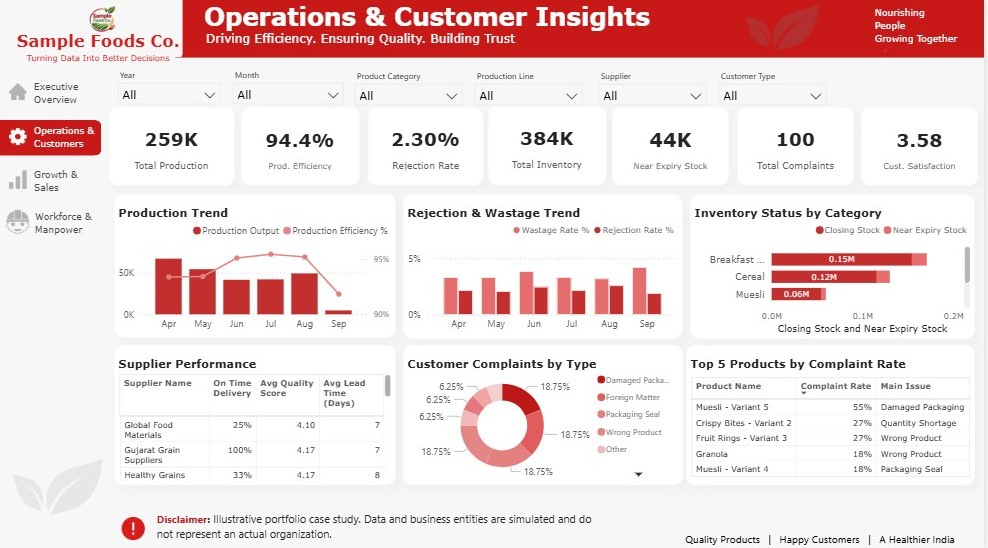

The page's visual inventory and layout, read from the dashboard file:
{"tool":"powerbi","page":{"name":"Operations & Customers","canvas":[1280,720],"ordinal":1},"visuals":[{"type":"shape","title":"Tittle_L","box":[229.3,0,1050.7,80],"z":0},{"type":"textbox","title":"Shanti Foods","box":[10,37.5,239.5,39.9],"z":0,"group":"g12"},{"type":"shape","title":"Side_Button_1_Cover","box":[0,103,125.1,46],"z":0,"group":"g3"},{"type":"slicer","title":"Slicer_Year_2","fields":{"Values":["Date_Table.Year"]},"box":[150.2,107.7,142.9,40.5],"z":0,"group":"g9"},{"type":"slicer","title":"Slicer_Year_2","fields":{"Values":["Date_Table.Month"]},"box":[299.6,108.5,153.8,40.4],"z":0,"group":"g8"},{"type":"slicer","title":"Slicer_Year_2","fields":{"Values":["Production.Production_Line"]},"box":[459,108.7,149.5,40.5],"z":0,"group":"g7"},{"type":"slicer","title":"Slicer_Year_2","fields":{"Values":["Product_Master.Category"]},"box":[614.8,108.7,149.5,40.5],"z":0,"group":"g6"},{"type":"slicer","title":"Slicer_Year_2","fields":{"Values":["Procurement.Supplier_Name"]},"box":[775,108.8,149.5,40.5],"z":0,"group":"g5"},{"type":"slicer","title":"Slicer_Year_2","fields":{"Values":["Customer_Master.Customer_Type"]},"box":[931,108.8,149.5,40.5],"z":0,"group":"g4"},{"type":"shape","title":"Side_Button_1_Cover","box":[0,160.9,125.1,46],"z":0,"group":"g2"},{"type":"shape","title":"Side_Button_1_Cover","box":[0,216.8,125.1,46],"z":0,"group":"g1"},{"type":"shape","title":"Side_Button_1_Cover","box":[0,272.7,125.1,46],"z":0,"group":"g11"},{"type":"textbox","box":[200,664.3,598.6,55.7],"z":0,"group":"g10"},{"type":"shape","title":"Title_S","box":[0,0,240,80],"z":1000},{"type":"textbox","title":"Tagline","box":[10,62.3,239.5,30.3],"z":1000,"group":"g12"},{"type":"textbox","title":"Slicer_text_2","box":[158.1,91.9,138.3,20.7],"z":1000,"group":"g9"},{"type":"textbox","title":"Slicer_text_2","box":[307.2,92.8,138.3,20.7],"z":1000,"group":"g8"},{"type":"textbox","title":"Slicer_text_2","box":[466.6,92.9,138.3,20.7],"z":1000,"group":"g7"},{"type":"textbox","title":"Slicer_text_2","box":[622.4,92.9,138.3,20.7],"z":1000,"group":"g6"},{"type":"textbox","title":"Slicer_text_2","box":[782.6,93,138.3,20.7],"z":1000,"group":"g5"},{"type":"textbox","title":"Slicer_text_2","box":[938.6,93,138.3,20.7],"z":1000,"group":"g4"},{"type":"shape","title":"Side_Button_1","box":[0,102.8,134.4,46.1],"z":1000,"group":"g3"},{"type":"shape","title":"Side_Button_1","box":[0,160.7,134.4,46.1],"z":1000,"group":"g2"},{"type":"shape","title":"Side_Button_1","box":[0,216.6,134.4,46.1],"z":1000,"group":"g1"},{"type":"shape","title":"Side_Button_1","box":[0,272.5,134.4,46.1],"z":1000,"group":"g11"},{"type":"image","box":[150,675.7,50,30],"z":1000,"group":"g10"},{"type":"image","title":"Logoo","box":[110,10,50.4,36.8],"z":2000,"group":"g12"},{"type":"image","title":"Homo_logo","box":[14,105.8,22.8,38],"z":2000,"group":"g3"},{"type":"image","title":"Setting_logo","box":[14,163.7,22.8,38],"z":2000,"group":"g2"},{"type":"group","id":"g1","title":"Side Button 3","box":[0,216.6,134.5,46.2],"z":2000},{"type":"image","title":"Signal_logo","box":[14,219.6,22.8,38],"z":2000,"group":"g1"},{"type":"image","title":"Signal_logo","box":[9.3,264.3,32.9,58.6],"z":2000,"group":"g11"},{"type":"textbox","title":"Exec_text","box":[47.3,108.5,69.7,35.2],"z":3000,"group":"g3"},{"type":"group","id":"g2","title":"Side Button 2","box":[0,160.7,134.1,46.2],"z":3000},{"type":"textbox","title":"Ops/ customer text","box":[46.9,165.2,79.5,36.4],"z":3000,"group":"g2"},{"type":"textbox","title":"Growth/Sales text","box":[47.3,222.3,69.7,35.2],"z":3000,"group":"g1"},{"type":"textbox","title":"Growth/Sales text","box":[47.9,277.3,87.1,35],"z":3000,"group":"g11"},{"type":"group","id":"g3","title":"Side Button 1","box":[0,102.8,134.4,46.2],"z":4000},{"type":"textbox","title":"Header Tagline 1","box":[267,6,607,42],"z":5000},{"type":"textbox","title":"Header Title 1","box":[270,45,420,23],"z":6000},{"type":"textbox","title":"Header Sideline 1","box":[1138.7,12,130,55.3],"z":7000},{"type":"cardVisual","title":"Total Production","fields":{"Data":["Production.Production Output"]},"box":[144.1,144.1,162.9,101.8],"z":8000},{"type":"lineClusteredColumnComboChart","title":"Production Trend","fields":{"Category":["Date_Table.Month_Short"],"Y":["Production.Production Output"],"Y2":["Production.Production Efficiency %"]},"box":[150,257.3,366.4,187.3],"z":9000},{"type":"clusteredColumnChart","title":"Rejection & Wastage Trend","fields":{"Category":["Date_Table.Month_Short"],"Y":["Production.Wastage Rate %","Production.Rejection Rate %"]},"box":[526.1,257.3,362.5,187.6],"z":10000},{"type":"barChart","title":"Inventory Status by Category","fields":{"Category":["Product_Master.Category"],"Y":["Inventory.Closing Stock","Inventory.Near Expiry Stock"]},"box":[898.7,257.3,370.1,187.6],"z":11000},{"type":"tableEx","title":"Supplier Performance","fields":{"Values":["Procurement.Supplier_Name","Complaints_Returns.On-Time Delivery %","Complaints_Returns.Avg Quality Score","Complaints_Returns.Avg Lead Time"]},"box":[150,452.7,366.4,181.8],"z":12000},{"type":"donutChart","title":"Customer Complaints by Type","fields":{"Category":["Complaints_Returns.Complaint_Type"],"Y":["Complaints_Returns.Total Complaints"]},"box":[525.5,452.7,363.6,181.8],"z":13000},{"type":"group","id":"g4","title":"Slicer 6","box":[931,93,149,56],"z":14000},{"type":"group","id":"g5","title":"Slicer 5","box":[775,93,149.5,56.3],"z":15000},{"type":"group","id":"g6","title":"Slicer 4","box":[614.8,92.9,149.5,56.2],"z":16000},{"type":"group","id":"g7","title":"Slicer 3","box":[459,92.9,149.5,56.3],"z":17000},{"type":"group","id":"g8","title":"Slicer 2","box":[299.6,92.8,153.8,56.1],"z":18000},{"type":"group","id":"g9","title":"Slicer 1","box":[150.2,91.9,146.1,56.2],"z":19000},{"type":"cardVisual","title":"Production Efficiency","fields":{"Data":["Production.Production Efficiency %"]},"box":[315,144.1,154.1,101.8],"z":20000},{"type":"cardVisual","title":"Rejection Rate","fields":{"Data":["Production.Rejection Rate %"]},"box":[480,143.5,150,101.8],"z":21000},{"type":"cardVisual","title":"Total Inventory","fields":{"Data":["Inventory.Closing Stock"]},"box":[636,142.7,153.6,102.7],"z":22000},{"type":"cardVisual","title":"Near Expiry Stock","fields":{"Data":["Inventory.Near Expiry Stock"]},"box":[798,143.5,152.4,101.8],"z":23000},{"type":"cardVisual","title":"Total Complaints","fields":{"Data":["Complaints_Returns.Total Complaints"]},"box":[959.4,144.1,152.4,101.8],"z":24000},{"type":"cardVisual","title":"Customer","fields":{"Data":["Complaints_Returns.Avg Customer Satisfaction"]},"box":[1120.6,143.5,152.4,101.8],"z":25000},{"type":"tableEx","title":"Top 5 Products by Complaint Rate","fields":{"Values":["Complaints_Returns.Product_Name","Complaints_Returns.Complaint Rate %","Complaints_Returns.Main Complaint Issue"]},"box":[893.6,452.7,375.5,181.8],"z":26000},{"type":"textbox","title":"Footer","box":[856.4,690.9,423.6,29.1],"z":27000},{"type":"group","id":"g10","title":"Group 1","box":[150,664.3,648.6,55.7],"z":28000},{"type":"group","id":"g11","title":"Side Button 4","box":[0,264.3,135,58.6],"z":29000},{"type":"image","title":"Bird","box":[0,555,150,165],"z":30000},{"type":"image","title":"Bird","box":[941.7,0,150,81.7],"z":31000},{"type":"group","id":"g12","title":"TOP LOGO","box":[10,10,239.5,82.6],"z":32000}]}

Visuals, with their boxes in screenshot pixels (x1, y1, x2, y2), scaled from the page's 1280x720 canvas onto the 988x548 screenshot:
"Tittle_L" shape: {"left": 177, "top": 0, "right": 987, "bottom": 61}
"Shanti Foods" textbox: {"left": 8, "top": 29, "right": 193, "bottom": 59}
"Side_Button_1_Cover" shape: {"left": 0, "top": 78, "right": 97, "bottom": 113}
"Slicer_Year_2" slicer: {"left": 116, "top": 82, "right": 226, "bottom": 113}
"Slicer_Year_2" slicer: {"left": 231, "top": 83, "right": 350, "bottom": 113}
"Slicer_Year_2" slicer: {"left": 354, "top": 83, "right": 470, "bottom": 114}
"Slicer_Year_2" slicer: {"left": 475, "top": 83, "right": 590, "bottom": 114}
"Slicer_Year_2" slicer: {"left": 598, "top": 83, "right": 714, "bottom": 114}
"Slicer_Year_2" slicer: {"left": 719, "top": 83, "right": 834, "bottom": 114}
"Side_Button_1_Cover" shape: {"left": 0, "top": 122, "right": 97, "bottom": 157}
"Side_Button_1_Cover" shape: {"left": 0, "top": 165, "right": 97, "bottom": 200}
"Side_Button_1_Cover" shape: {"left": 0, "top": 208, "right": 97, "bottom": 243}
textbox: {"left": 154, "top": 506, "right": 616, "bottom": 547}
"Title_S" shape: {"left": 0, "top": 0, "right": 185, "bottom": 61}
"Tagline" textbox: {"left": 8, "top": 47, "right": 193, "bottom": 70}
"Slicer_text_2" textbox: {"left": 122, "top": 70, "right": 229, "bottom": 86}
"Slicer_text_2" textbox: {"left": 237, "top": 71, "right": 344, "bottom": 86}
"Slicer_text_2" textbox: {"left": 360, "top": 71, "right": 467, "bottom": 86}
"Slicer_text_2" textbox: {"left": 480, "top": 71, "right": 587, "bottom": 86}
"Slicer_text_2" textbox: {"left": 604, "top": 71, "right": 711, "bottom": 87}
"Slicer_text_2" textbox: {"left": 724, "top": 71, "right": 831, "bottom": 87}
"Side_Button_1" shape: {"left": 0, "top": 78, "right": 104, "bottom": 113}
"Side_Button_1" shape: {"left": 0, "top": 122, "right": 104, "bottom": 157}
"Side_Button_1" shape: {"left": 0, "top": 165, "right": 104, "bottom": 200}
"Side_Button_1" shape: {"left": 0, "top": 207, "right": 104, "bottom": 242}
image: {"left": 116, "top": 514, "right": 154, "bottom": 537}
"Logoo" image: {"left": 85, "top": 8, "right": 124, "bottom": 36}
"Homo_logo" image: {"left": 11, "top": 81, "right": 28, "bottom": 109}
"Setting_logo" image: {"left": 11, "top": 125, "right": 28, "bottom": 154}
"Side Button 3" group: {"left": 0, "top": 165, "right": 104, "bottom": 200}
"Signal_logo" image: {"left": 11, "top": 167, "right": 28, "bottom": 196}
"Signal_logo" image: {"left": 7, "top": 201, "right": 33, "bottom": 246}
"Exec_text" textbox: {"left": 37, "top": 83, "right": 90, "bottom": 109}
"Side Button 2" group: {"left": 0, "top": 122, "right": 104, "bottom": 157}
"Ops/ customer text" textbox: {"left": 36, "top": 126, "right": 98, "bottom": 153}
"Growth/Sales text" textbox: {"left": 37, "top": 169, "right": 90, "bottom": 196}
"Growth/Sales text" textbox: {"left": 37, "top": 211, "right": 104, "bottom": 238}
"Side Button 1" group: {"left": 0, "top": 78, "right": 104, "bottom": 113}
"Header Tagline 1" textbox: {"left": 206, "top": 5, "right": 675, "bottom": 37}
"Header Title 1" textbox: {"left": 208, "top": 34, "right": 533, "bottom": 52}
"Header Sideline 1" textbox: {"left": 879, "top": 9, "right": 979, "bottom": 51}
"Total Production" cardVisual: {"left": 111, "top": 110, "right": 237, "bottom": 187}
"Production Trend" lineClusteredColumnComboChart: {"left": 116, "top": 196, "right": 399, "bottom": 338}
"Rejection & Wastage Trend" clusteredColumnChart: {"left": 406, "top": 196, "right": 686, "bottom": 339}
"Inventory Status by Category" barChart: {"left": 694, "top": 196, "right": 979, "bottom": 339}
"Supplier Performance" tableEx: {"left": 116, "top": 345, "right": 399, "bottom": 483}
"Customer Complaints by Type" donutChart: {"left": 406, "top": 345, "right": 686, "bottom": 483}
"Slicer 6" group: {"left": 719, "top": 71, "right": 834, "bottom": 113}
"Slicer 5" group: {"left": 598, "top": 71, "right": 714, "bottom": 114}
"Slicer 4" group: {"left": 475, "top": 71, "right": 590, "bottom": 113}
"Slicer 3" group: {"left": 354, "top": 71, "right": 470, "bottom": 114}
"Slicer 2" group: {"left": 231, "top": 71, "right": 350, "bottom": 113}
"Slicer 1" group: {"left": 116, "top": 70, "right": 229, "bottom": 113}
"Production Efficiency" cardVisual: {"left": 243, "top": 110, "right": 362, "bottom": 187}
"Rejection Rate" cardVisual: {"left": 370, "top": 109, "right": 486, "bottom": 187}
"Total Inventory" cardVisual: {"left": 491, "top": 109, "right": 609, "bottom": 187}
"Near Expiry Stock" cardVisual: {"left": 616, "top": 109, "right": 734, "bottom": 187}
"Total Complaints" cardVisual: {"left": 741, "top": 110, "right": 858, "bottom": 187}
"Customer" cardVisual: {"left": 865, "top": 109, "right": 983, "bottom": 187}
"Top 5 Products by Complaint Rate" tableEx: {"left": 690, "top": 345, "right": 980, "bottom": 483}
"Footer" textbox: {"left": 661, "top": 526, "right": 987, "bottom": 547}
"Group 1" group: {"left": 116, "top": 506, "right": 616, "bottom": 547}
"Side Button 4" group: {"left": 0, "top": 201, "right": 104, "bottom": 246}
"Bird" image: {"left": 0, "top": 422, "right": 116, "bottom": 547}
"Bird" image: {"left": 727, "top": 0, "right": 843, "bottom": 62}
"TOP LOGO" group: {"left": 8, "top": 8, "right": 193, "bottom": 70}
